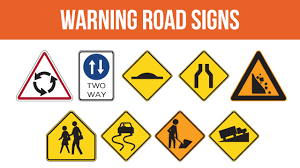Narrow_road: (177, 48, 230, 101)
